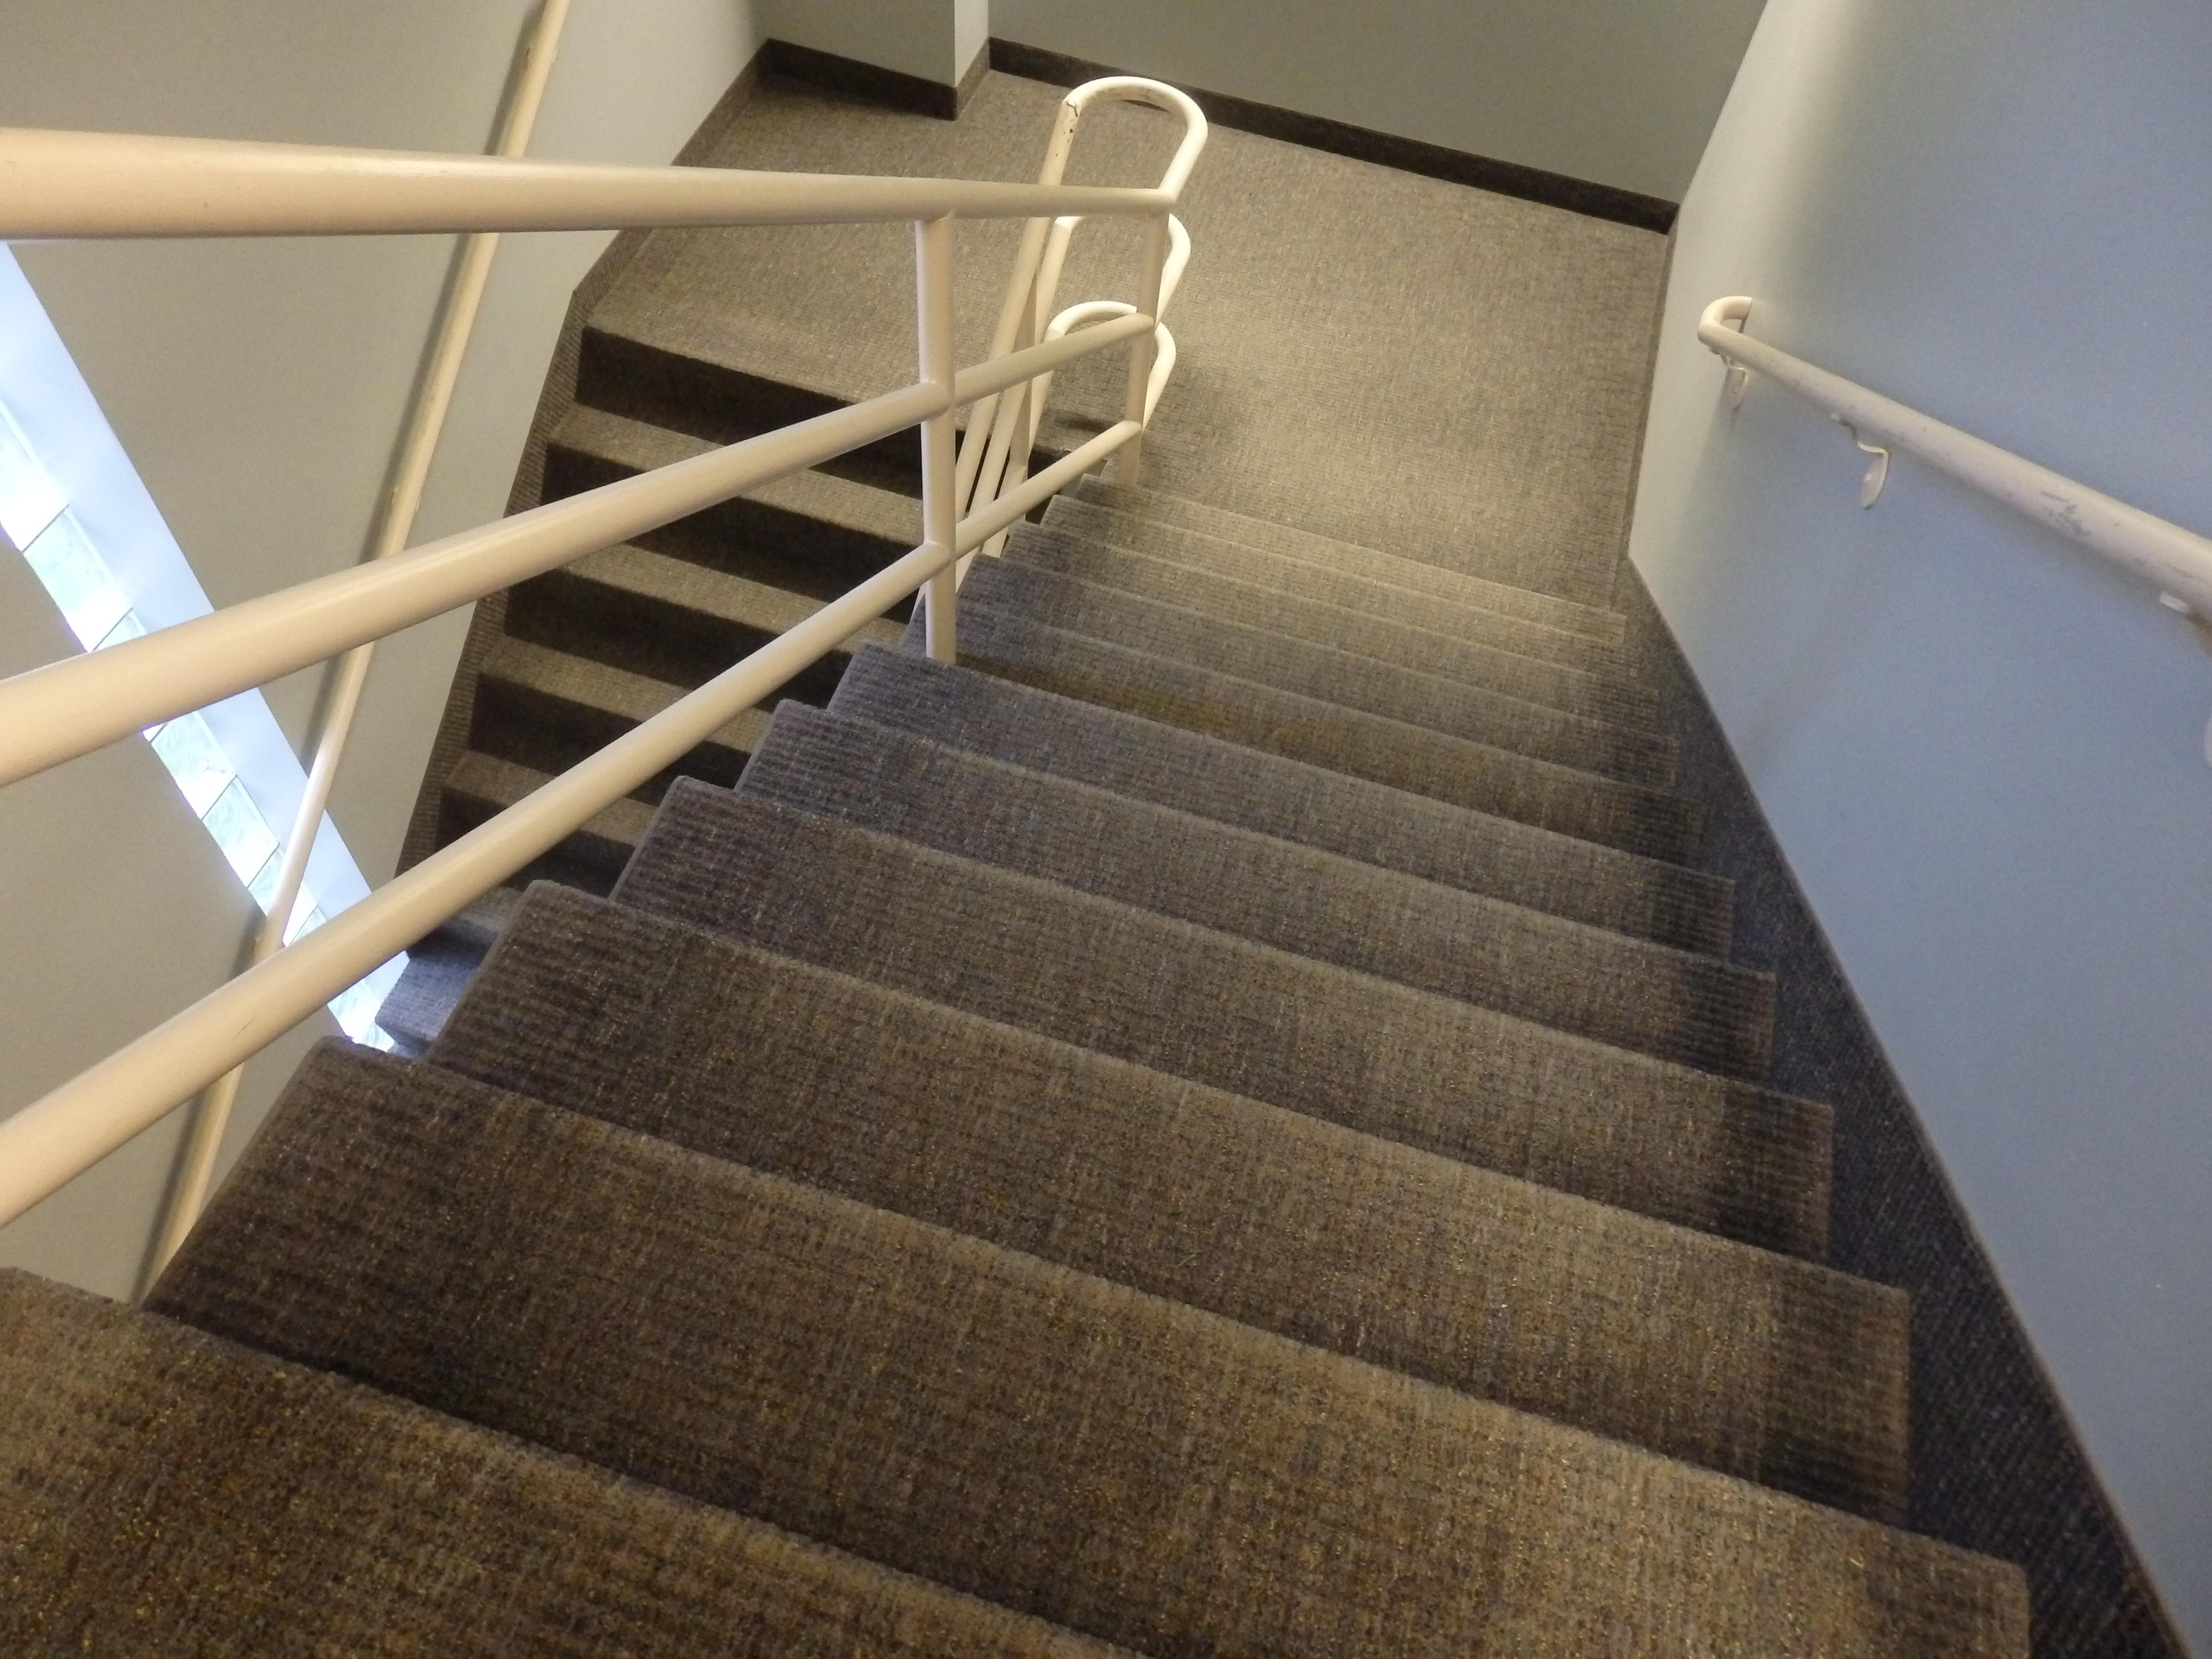stairs_down: (432, 495, 1987, 1568)
